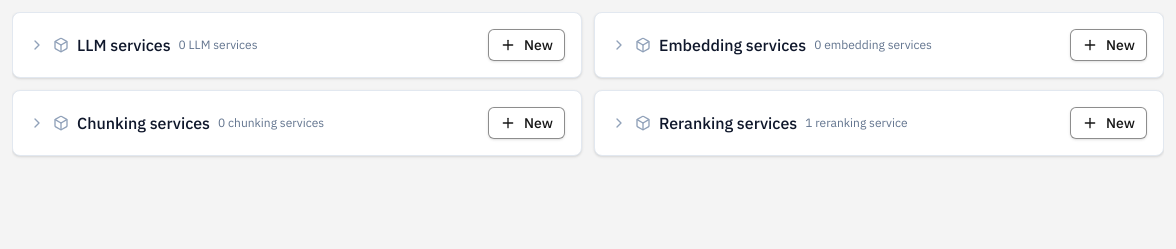
Scenario: ServicesPanel › expands the reranking subpanel and renders its rows
The image size is (1176, 249).
Click the button named "Reranking services" at (879, 123), box [595, 91, 1163, 155]
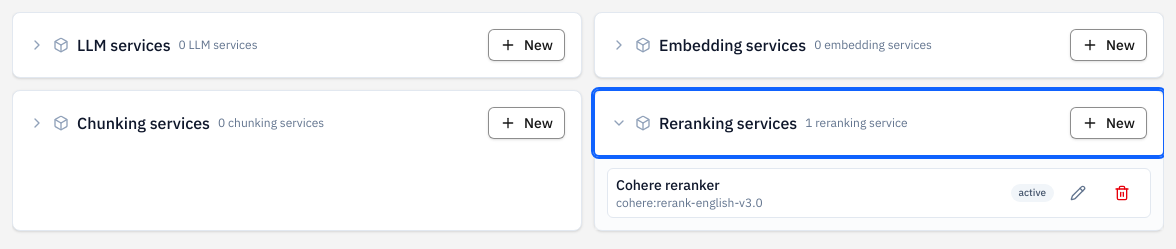
Now the text "Cohere reranker" is shown, box [616, 176, 720, 194]
Now the text "cohere:rerank-english-v3.0" is shown, box [616, 195, 763, 210]
